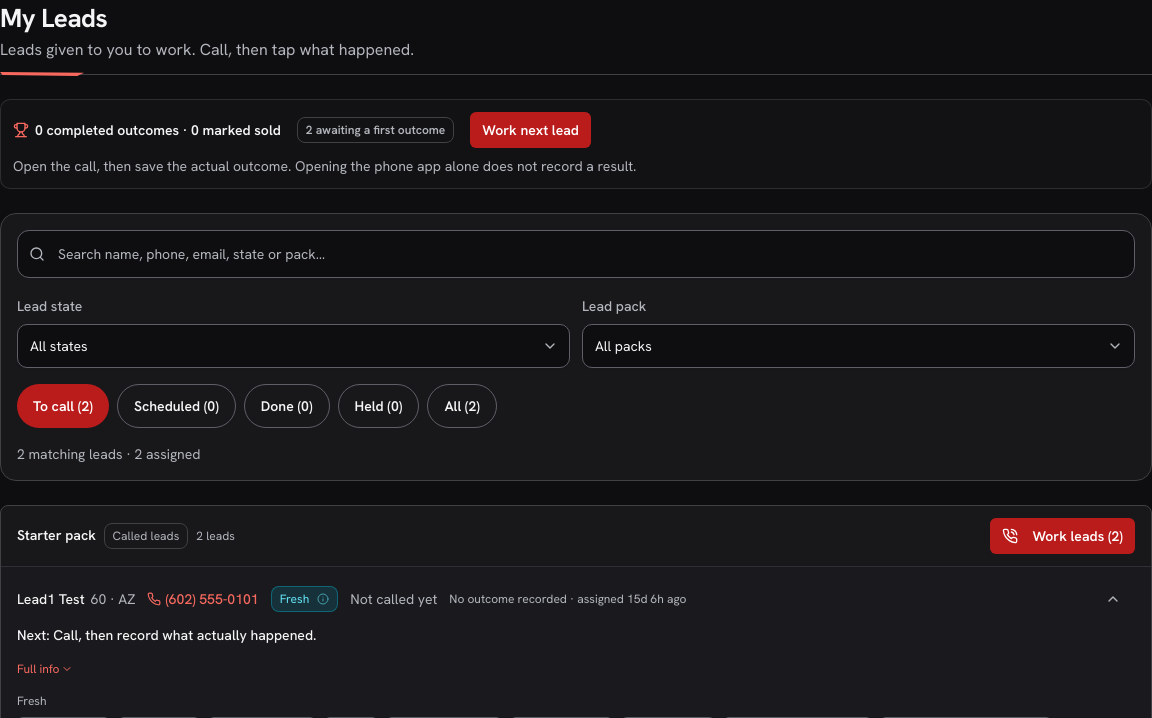
My Leads recordings and pipeline › shows multiple supplier observations and saves a next action without fabricating policy verification
Later steps or results of the test are not shown.
Click the button "Full info". click: (45, 669)
box: [17, 653, 73, 685]
(page scrolled)
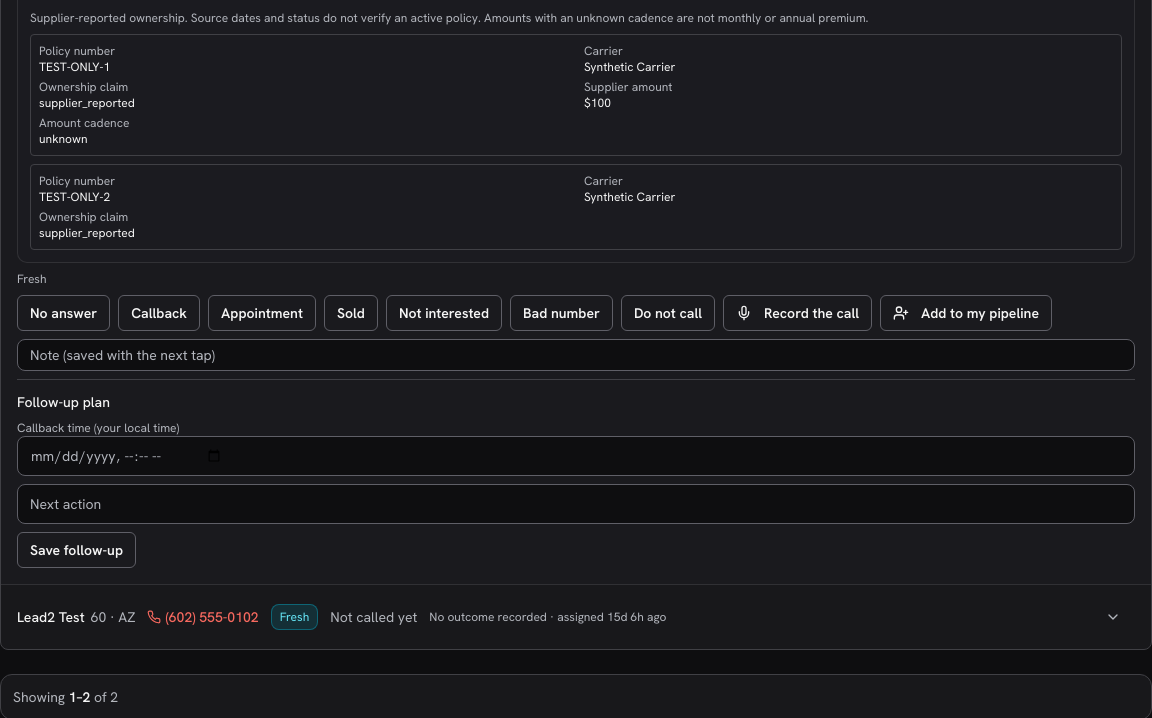
Expected: the text "TEST-ONLY-1" is shown, [39, 59, 110, 75]
Expected: the text "TEST-ONLY-2" is shown, [39, 189, 110, 205]
Expected: the text "Source dates and status do not verify an active policy" is shown, [30, 10, 868, 26]
